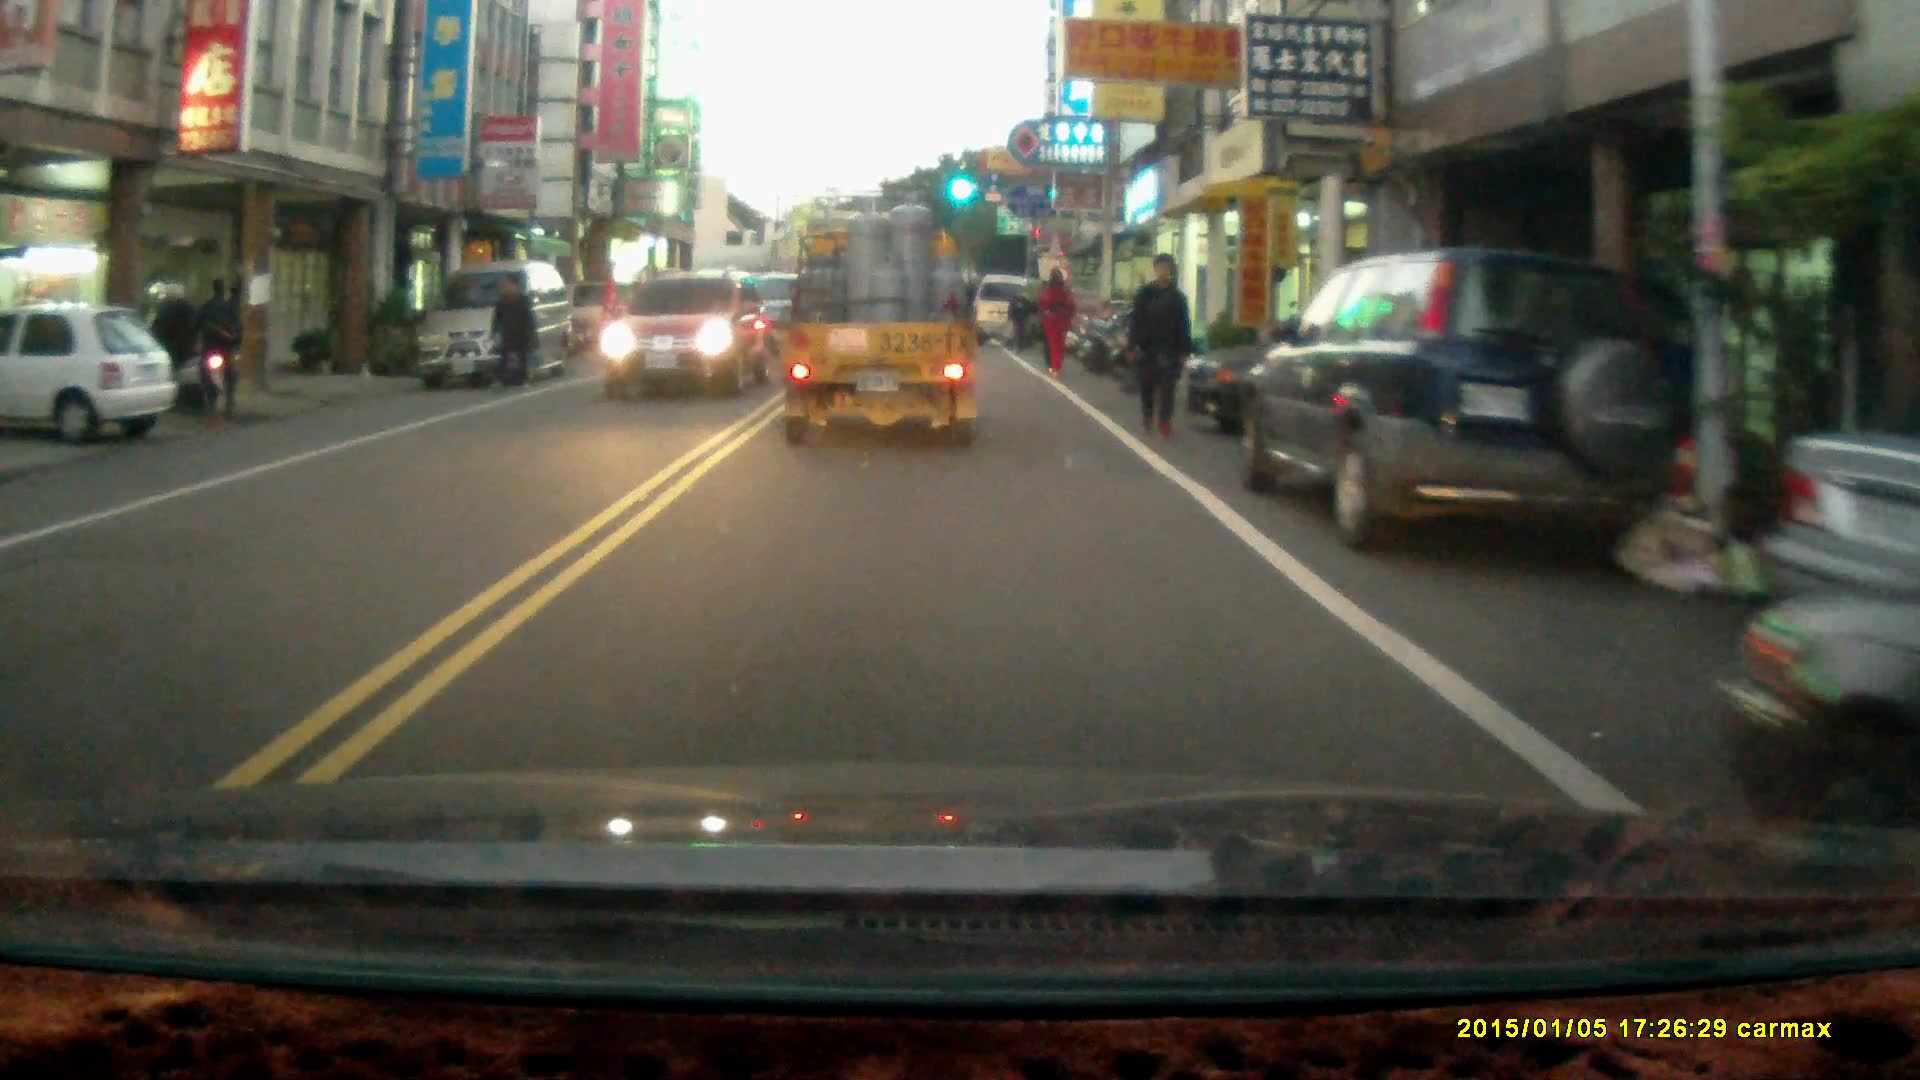pedestrian: (1123, 249, 1195, 440), (193, 273, 241, 415), (485, 270, 534, 396), (1036, 261, 1073, 376), (1005, 283, 1036, 356)
rider: (130, 278, 224, 416)
vehicle: (1240, 243, 1687, 558), (773, 191, 981, 456), (1, 307, 186, 452), (414, 262, 582, 388), (602, 272, 762, 397), (984, 270, 1043, 352)
